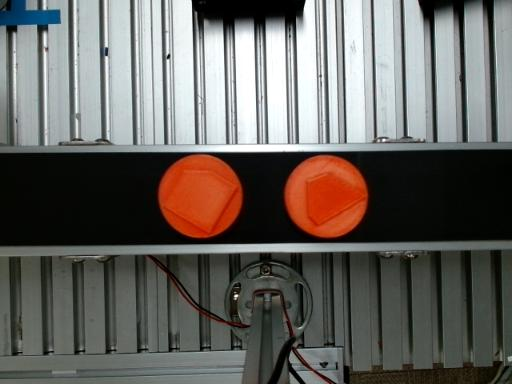Not_Square: (162, 168, 238, 234), (305, 173, 368, 226)
Orange_Waper: (158, 154, 242, 238), (285, 155, 369, 238)
